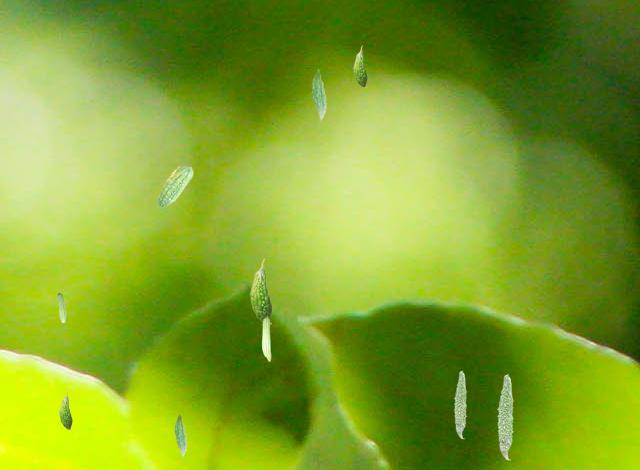ampalaya: (249, 258, 272, 324), (157, 165, 193, 207), (497, 373, 514, 460), (453, 370, 467, 439), (311, 69, 327, 121), (352, 45, 367, 88), (174, 413, 187, 458), (58, 390, 72, 430), (261, 315, 271, 361), (56, 292, 67, 323)
